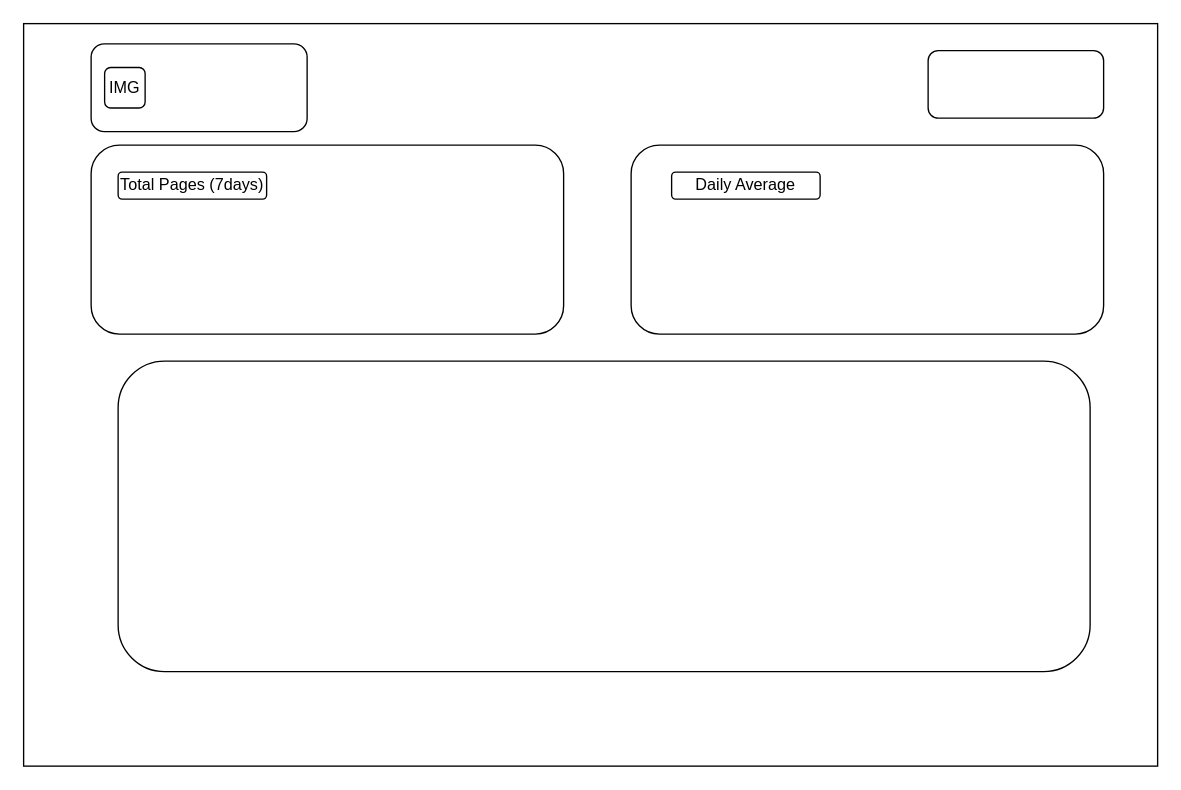
Image size: 1181x790. Some labels were removed from this diagram. The box of each missing label's shape, as (x1, y1, x2, y2) in pixels:
Log Pages: (927, 49, 1104, 118)
Readiing Progress: (90, 43, 307, 132)
